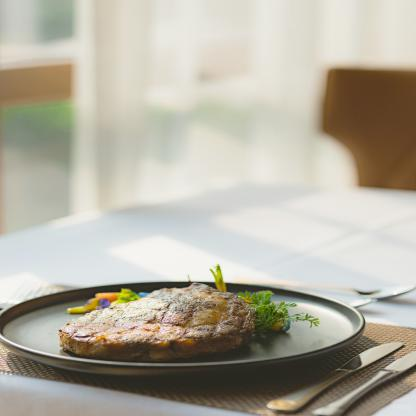Carne: (62, 278, 253, 354)
